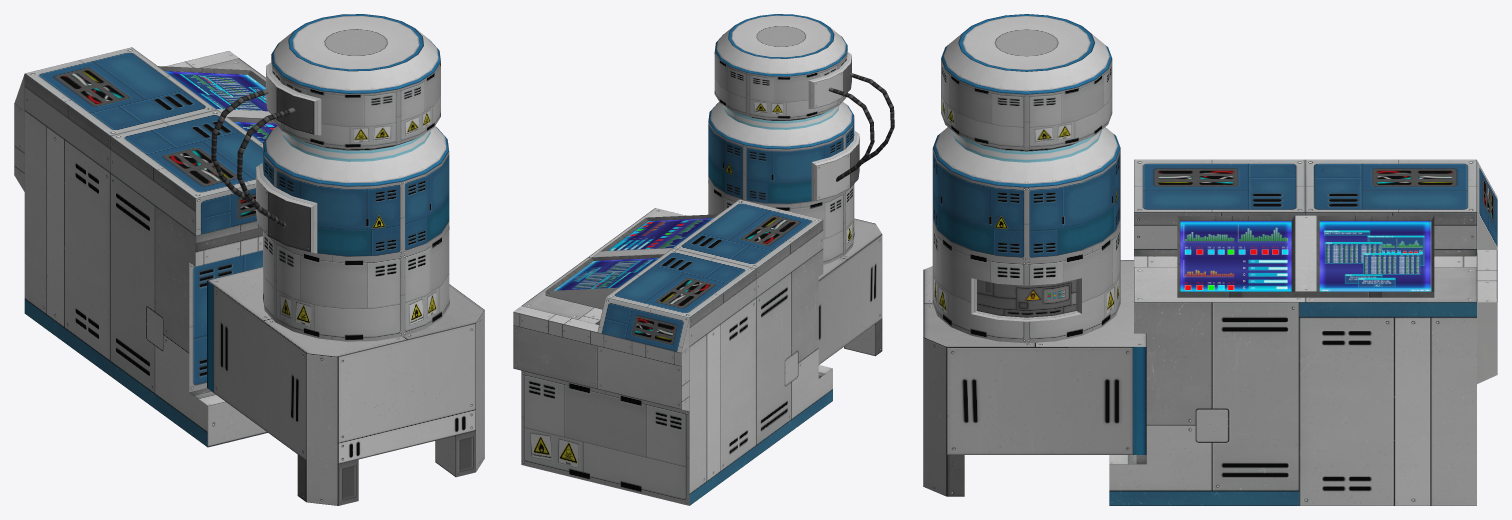
File: Incubator_01.FBX
The picture shows the model from 3 angles, left to right: view 1: azimuth 30°, elevation 25°; view 2: azimuth 150°, elevation 25°; view 3: azimuth 270°, elevation 25°; orthographic projection. The views are drawn at different scales.
Visible parts, largest first — view 1: Incubator_01, Screen_Right, GlowStrip; view 2: Incubator_01, Screen_Left, Screen_Right, GlowStrip; view 3: Incubator_01, Screen_Right, Screen_Left, GlowStrip.
Boxes of the visible parts, x1=… form: Incubator_01: x1=14, y1=14, x2=484, y2=505; Screen_Right: x1=165, y1=71, x2=267, y2=111; GlowStrip: x1=282, y1=130, x2=430, y2=161; Incubator_01: x1=513, y1=14, x2=894, y2=505; Screen_Left: x1=607, y1=218, x2=713, y2=250; Screen_Right: x1=553, y1=258, x2=658, y2=290; GlowStrip: x1=723, y1=105, x2=839, y2=129; Incubator_01: x1=923, y1=14, x2=1497, y2=505; Screen_Right: x1=1319, y1=221, x2=1431, y2=291; Screen_Left: x1=1180, y1=221, x2=1291, y2=291; GlowStrip: x1=951, y1=130, x2=1101, y2=162.
Size of the model in its own units: 48.61 by 79.43 by 101.
